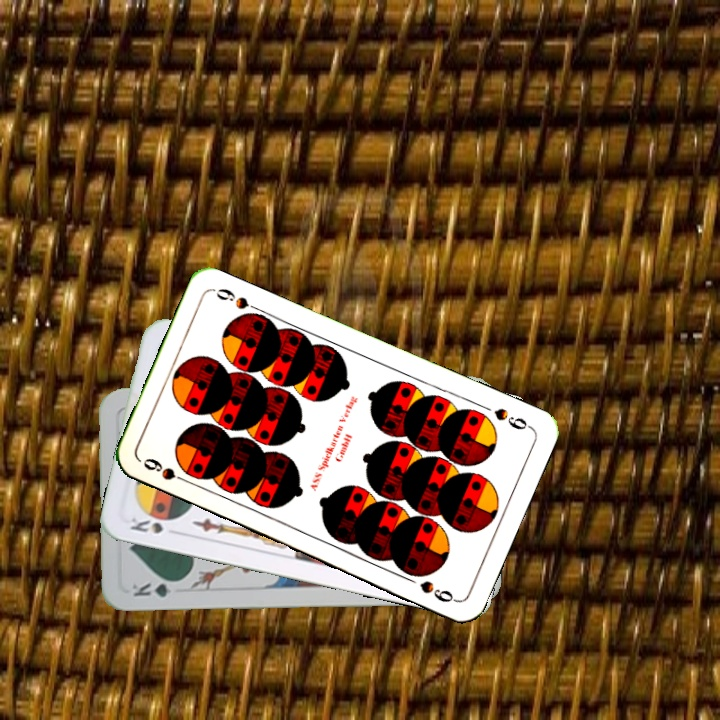GK: (128, 577, 185, 600)
S9: (139, 454, 194, 487), (490, 404, 534, 433)
SK: (126, 513, 183, 538)
